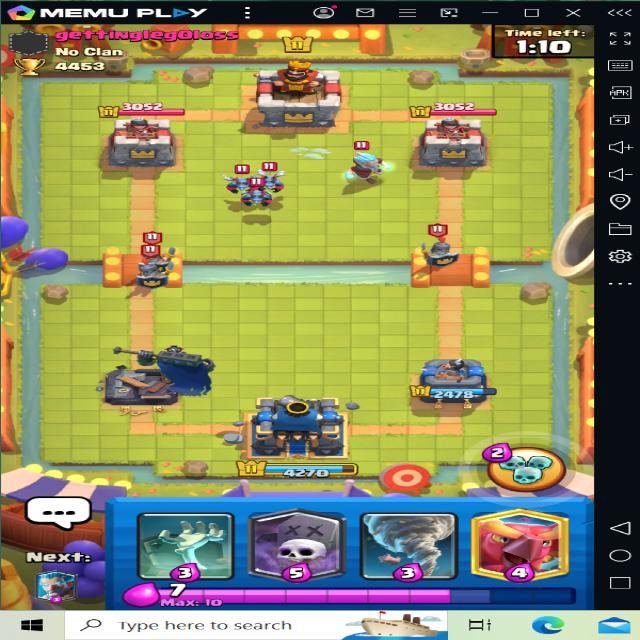Guards: (416, 220, 466, 272), (132, 234, 186, 271), (125, 260, 171, 288)
Icewizard: (333, 137, 404, 187)
Minions: (252, 166, 302, 197), (240, 177, 281, 209), (221, 160, 259, 190)
